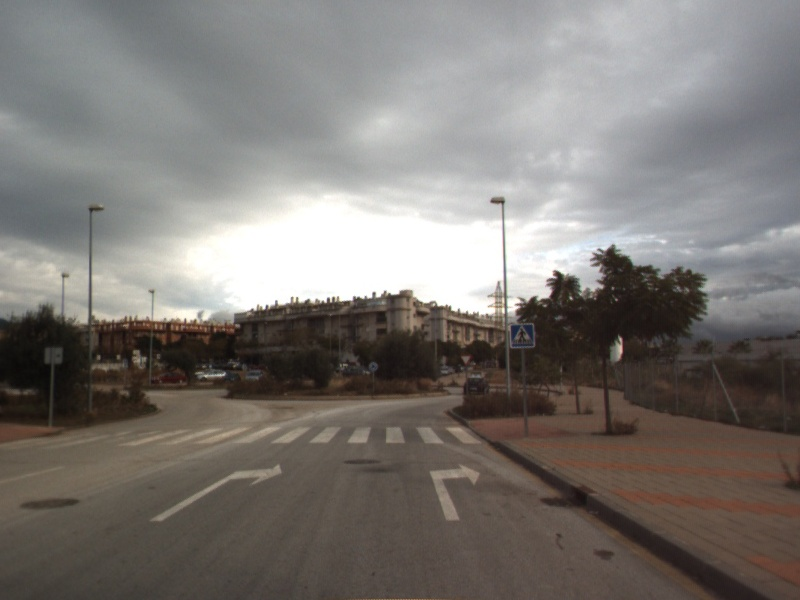RIGHT: (147, 462, 284, 523), (427, 461, 482, 523)
